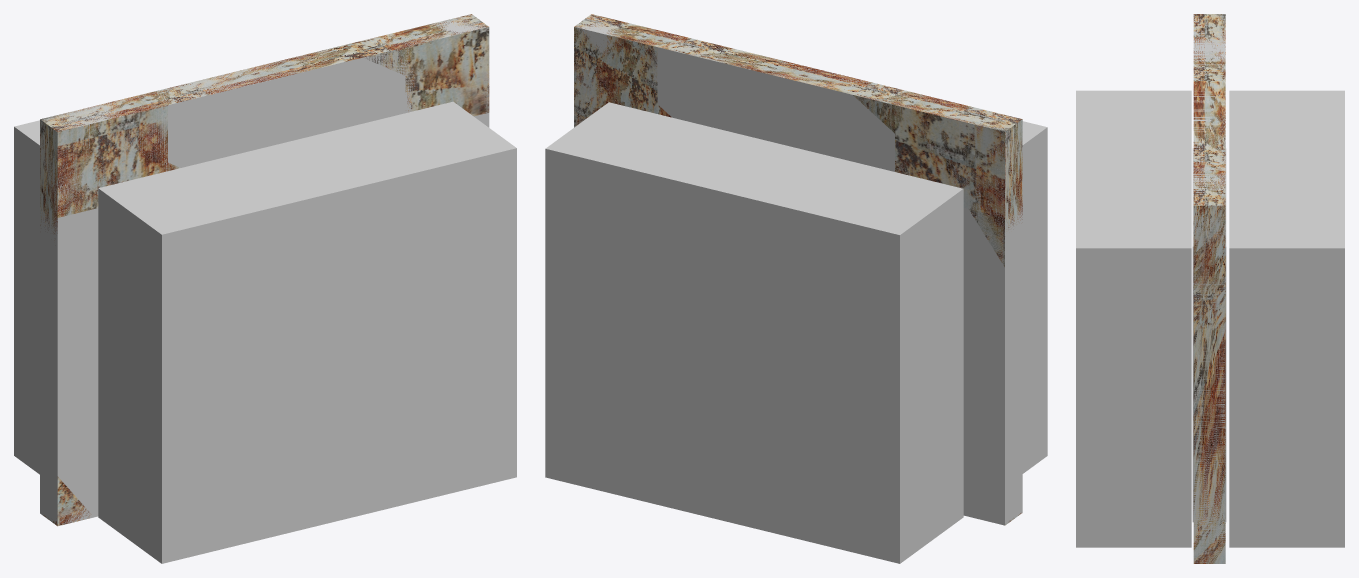
File: Puerta.glb
3 renders of one model, left to right at view 1: azimuth 30°, elevation 25°; view 2: azimuth 150°, elevation 25°; view 3: azimuth 270°, elevation 25°, orthographic. The views are drawn at different scales.
Visible parts, largest first — view 1: In_col, Marco_col, Marco, Out_col; view 2: Out_col, Marco_col, Marco, In_col; view 3: Out_col, In_col, Marco, Marco_col, Puerta_col.
Part boxes in pixels (box(x1,y1,x2,y2)): In_col: box(98, 101, 516, 563); Marco_col: box(40, 15, 489, 525); Marco: box(40, 14, 489, 526); Out_col: box(14, 120, 39, 474); Out_col: box(545, 102, 963, 563); Marco_col: box(574, 14, 1022, 525); Marco: box(574, 14, 1022, 525); In_col: box(1022, 121, 1047, 473); Out_col: box(1229, 90, 1344, 547); In_col: box(1076, 90, 1191, 547); Marco: box(1193, 14, 1225, 563); Marco_col: box(1193, 14, 1225, 563); Puerta_col: box(1192, 148, 1226, 522).
Bounding box in the file's own units: 7.83 × 6.84 × 4.65.
2 materials, 2 textured.
